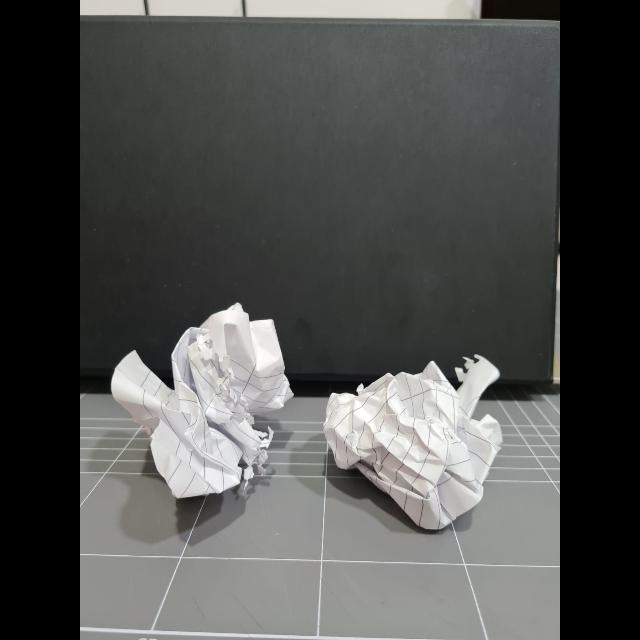scrap_paper: (324, 343, 506, 531), (114, 309, 288, 499)
